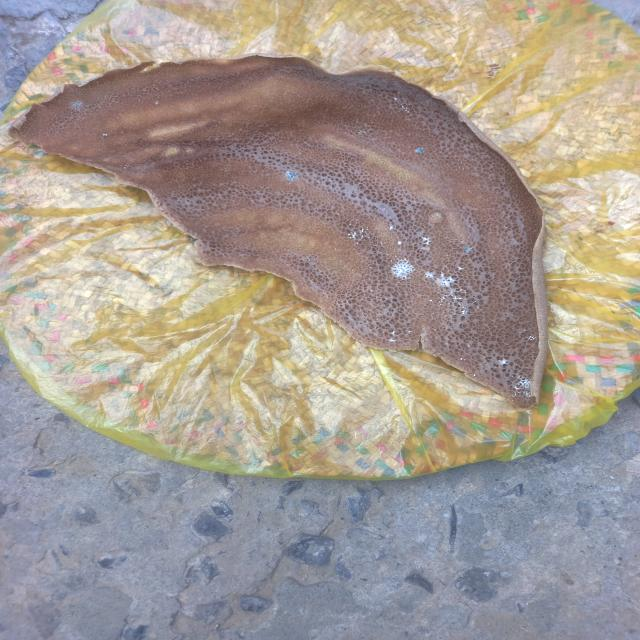injera_mold: (442, 290, 474, 318), (422, 268, 457, 289), (388, 257, 416, 282), (512, 372, 534, 400), (384, 325, 405, 346), (64, 95, 86, 114), (345, 228, 371, 244), (283, 167, 299, 183), (412, 144, 427, 158), (419, 233, 431, 249), (98, 129, 114, 140), (497, 358, 512, 368), (524, 333, 538, 343), (460, 245, 472, 255)
